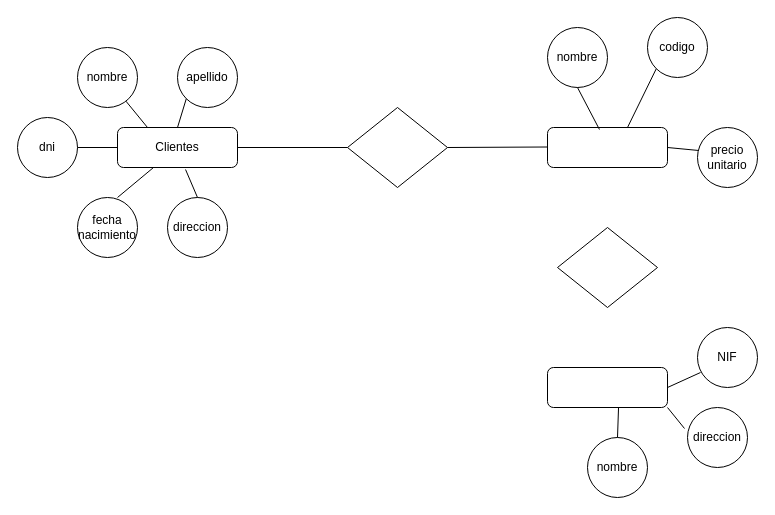
This 775x515 diagram has some shape labels left out. The box of each missing label's shape, as (x1, y1, x2, y2) in pixels:
Comprar: (346, 106, 448, 188)
Productos: (546, 126, 668, 168)
Proveedor: (546, 366, 668, 408)
suministrar: (556, 226, 658, 308)
